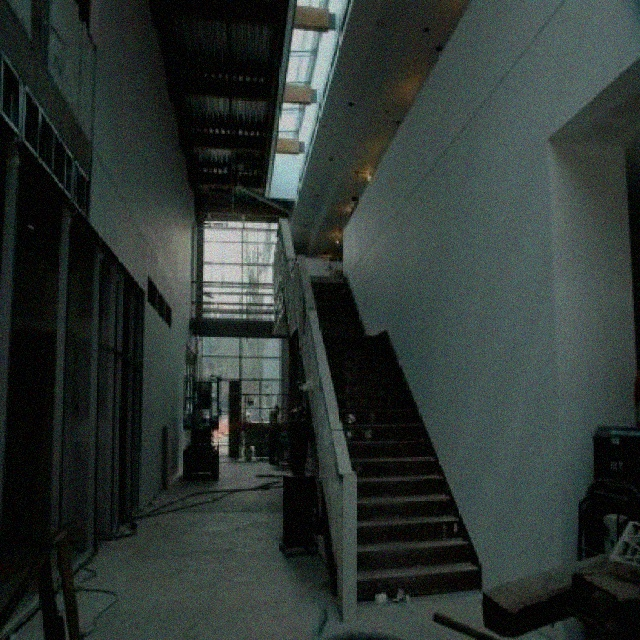stair: (306, 269, 485, 600)
